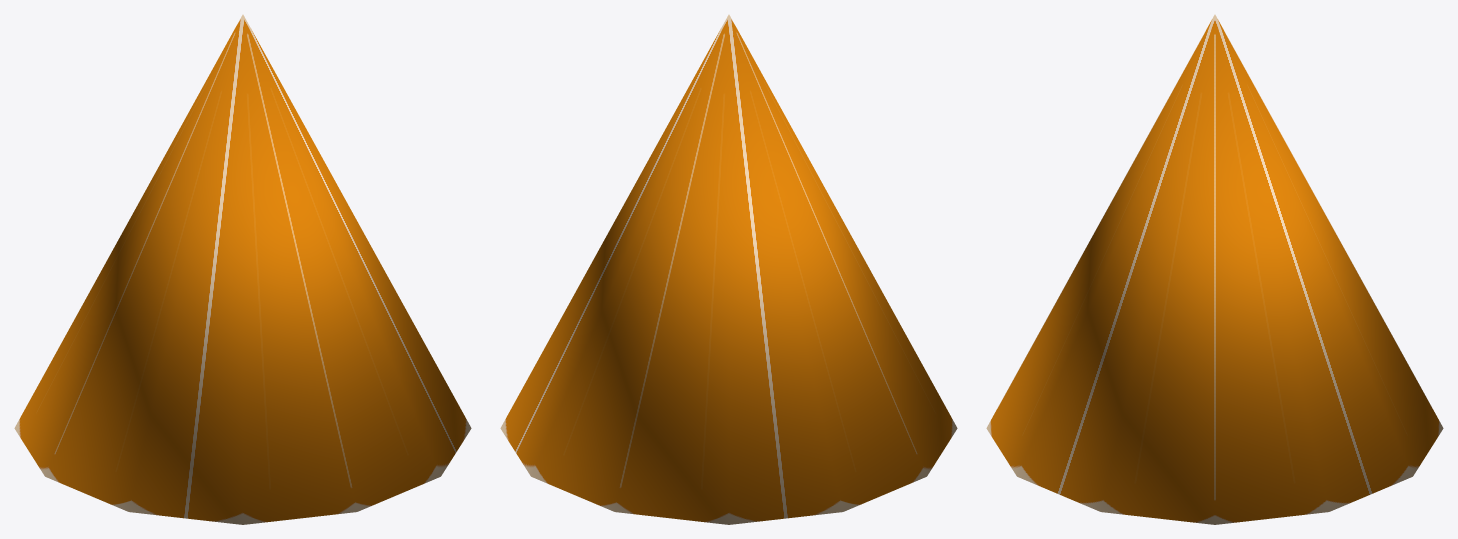
3 views of the same model, side by side, from view 1: azimuth 30°, elevation 25°; view 2: azimuth 150°, elevation 25°; view 3: azimuth 270°, elevation 25° (orthographic).
Parts seen in each view (by area): view 1: Cone_LQ_Cone; view 2: Cone_LQ_Cone; view 3: Cone_LQ_Cone.
Boxes of the visible parts, bbox=[...] form: Cone_LQ_Cone: bbox=[14, 14, 471, 524]; Cone_LQ_Cone: bbox=[500, 14, 957, 524]; Cone_LQ_Cone: bbox=[986, 14, 1443, 524].
Bounding box in the file's own units: 1 × 1 × 1.
1 material, 1 textured.
